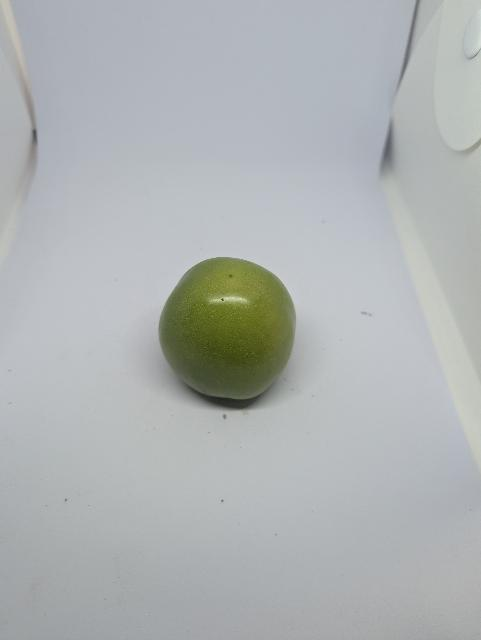green: (156, 254, 300, 403)
